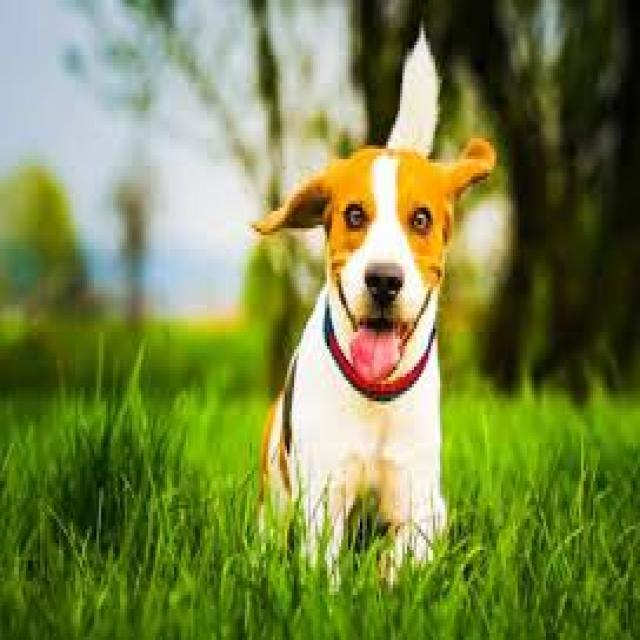Dog: (240, 130, 502, 596)
